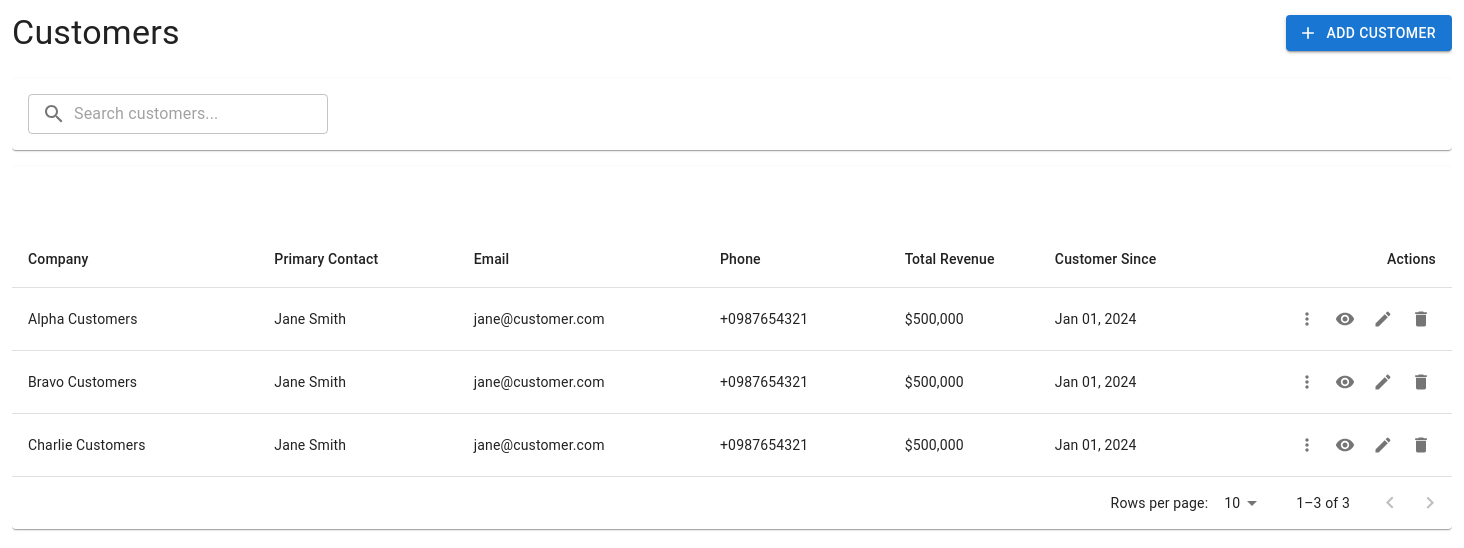
Test case: CustomerList row actions › opens a ticket for the chosen customer after the table was re-sorted
Expected: the text "Alpha Customers" is shown, [12,288,258,351]
Click the button "Company". click: (58, 259)
box: [28,251,88,267]
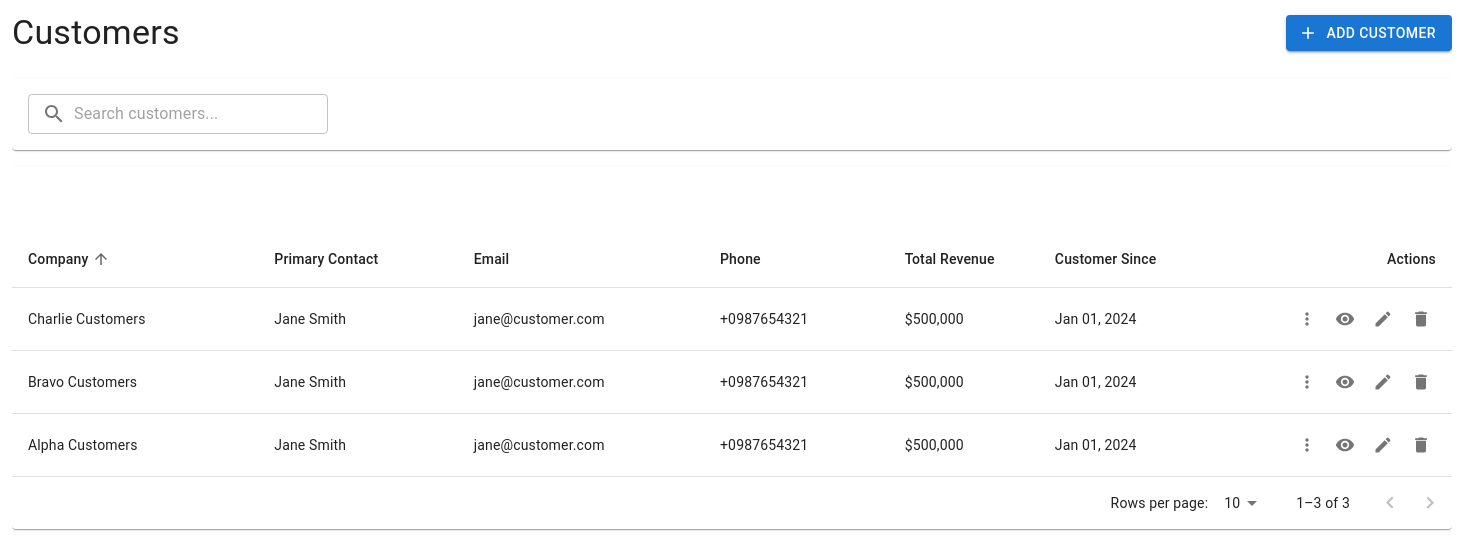
Now the row that starts with "Charlie Customers" is shown, box [28,311,146,327]
# Alpha moved from the first row to the last.
Click the button named "More actions for ". click: (1307, 445)
box: [1292,430,1322,460]
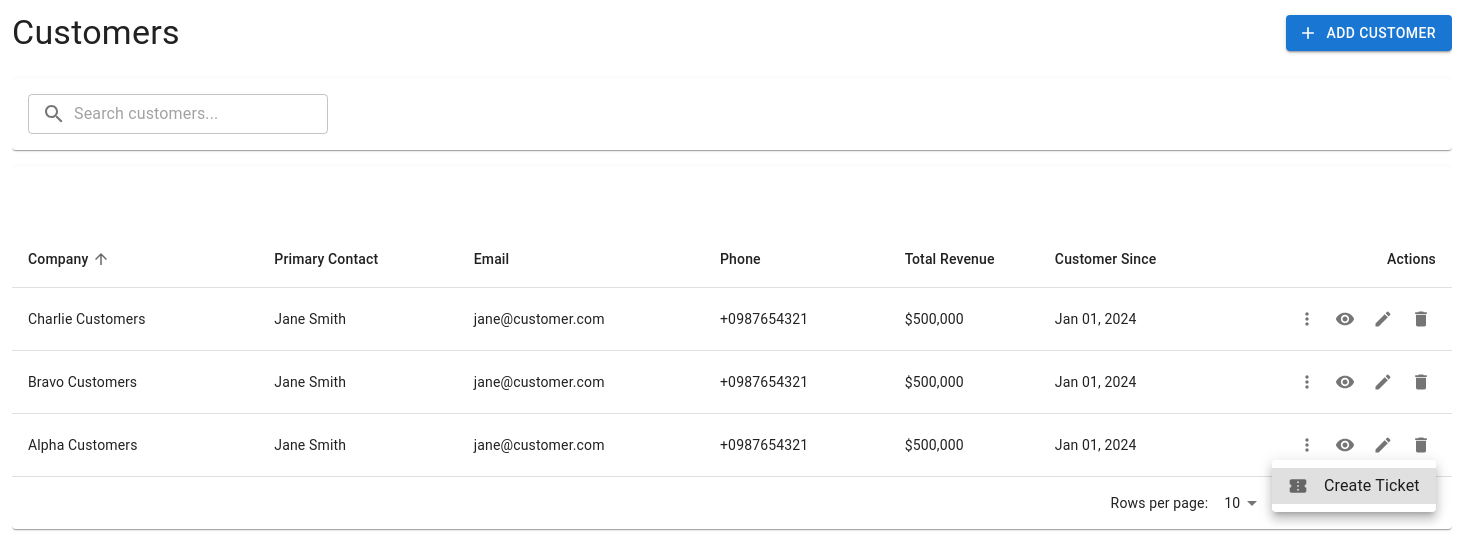
Click the menu item "Create Ticket". click: (1354, 486)
box: [1272,468,1436,504]
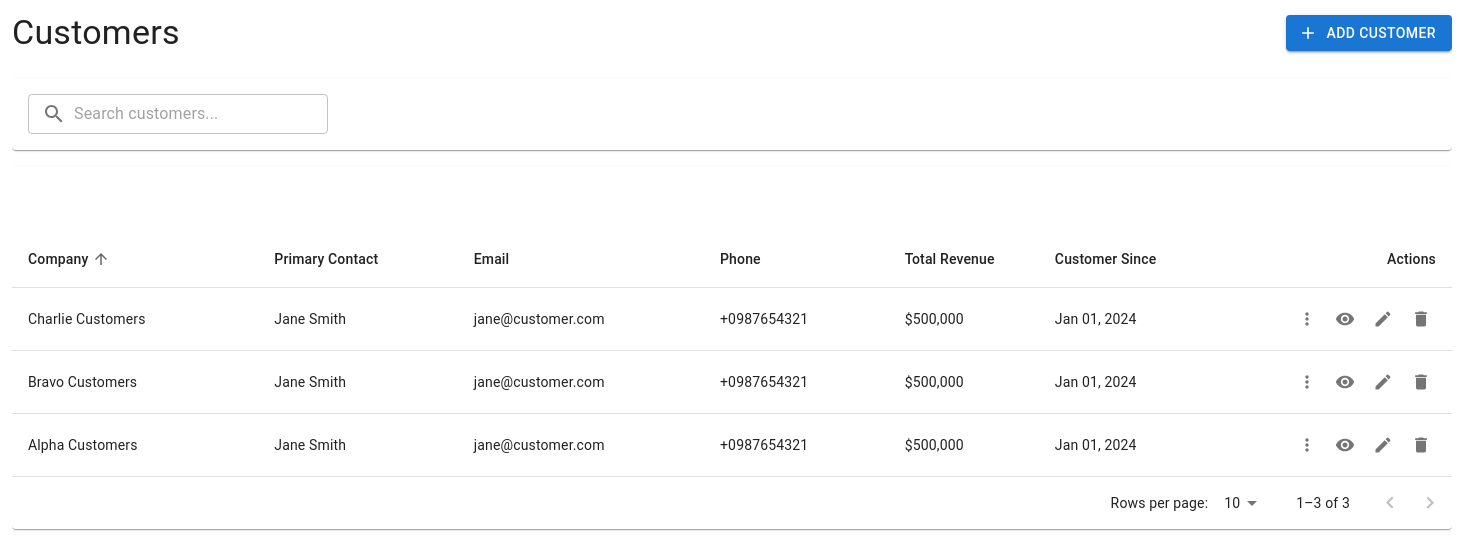
Now the menu is gone
